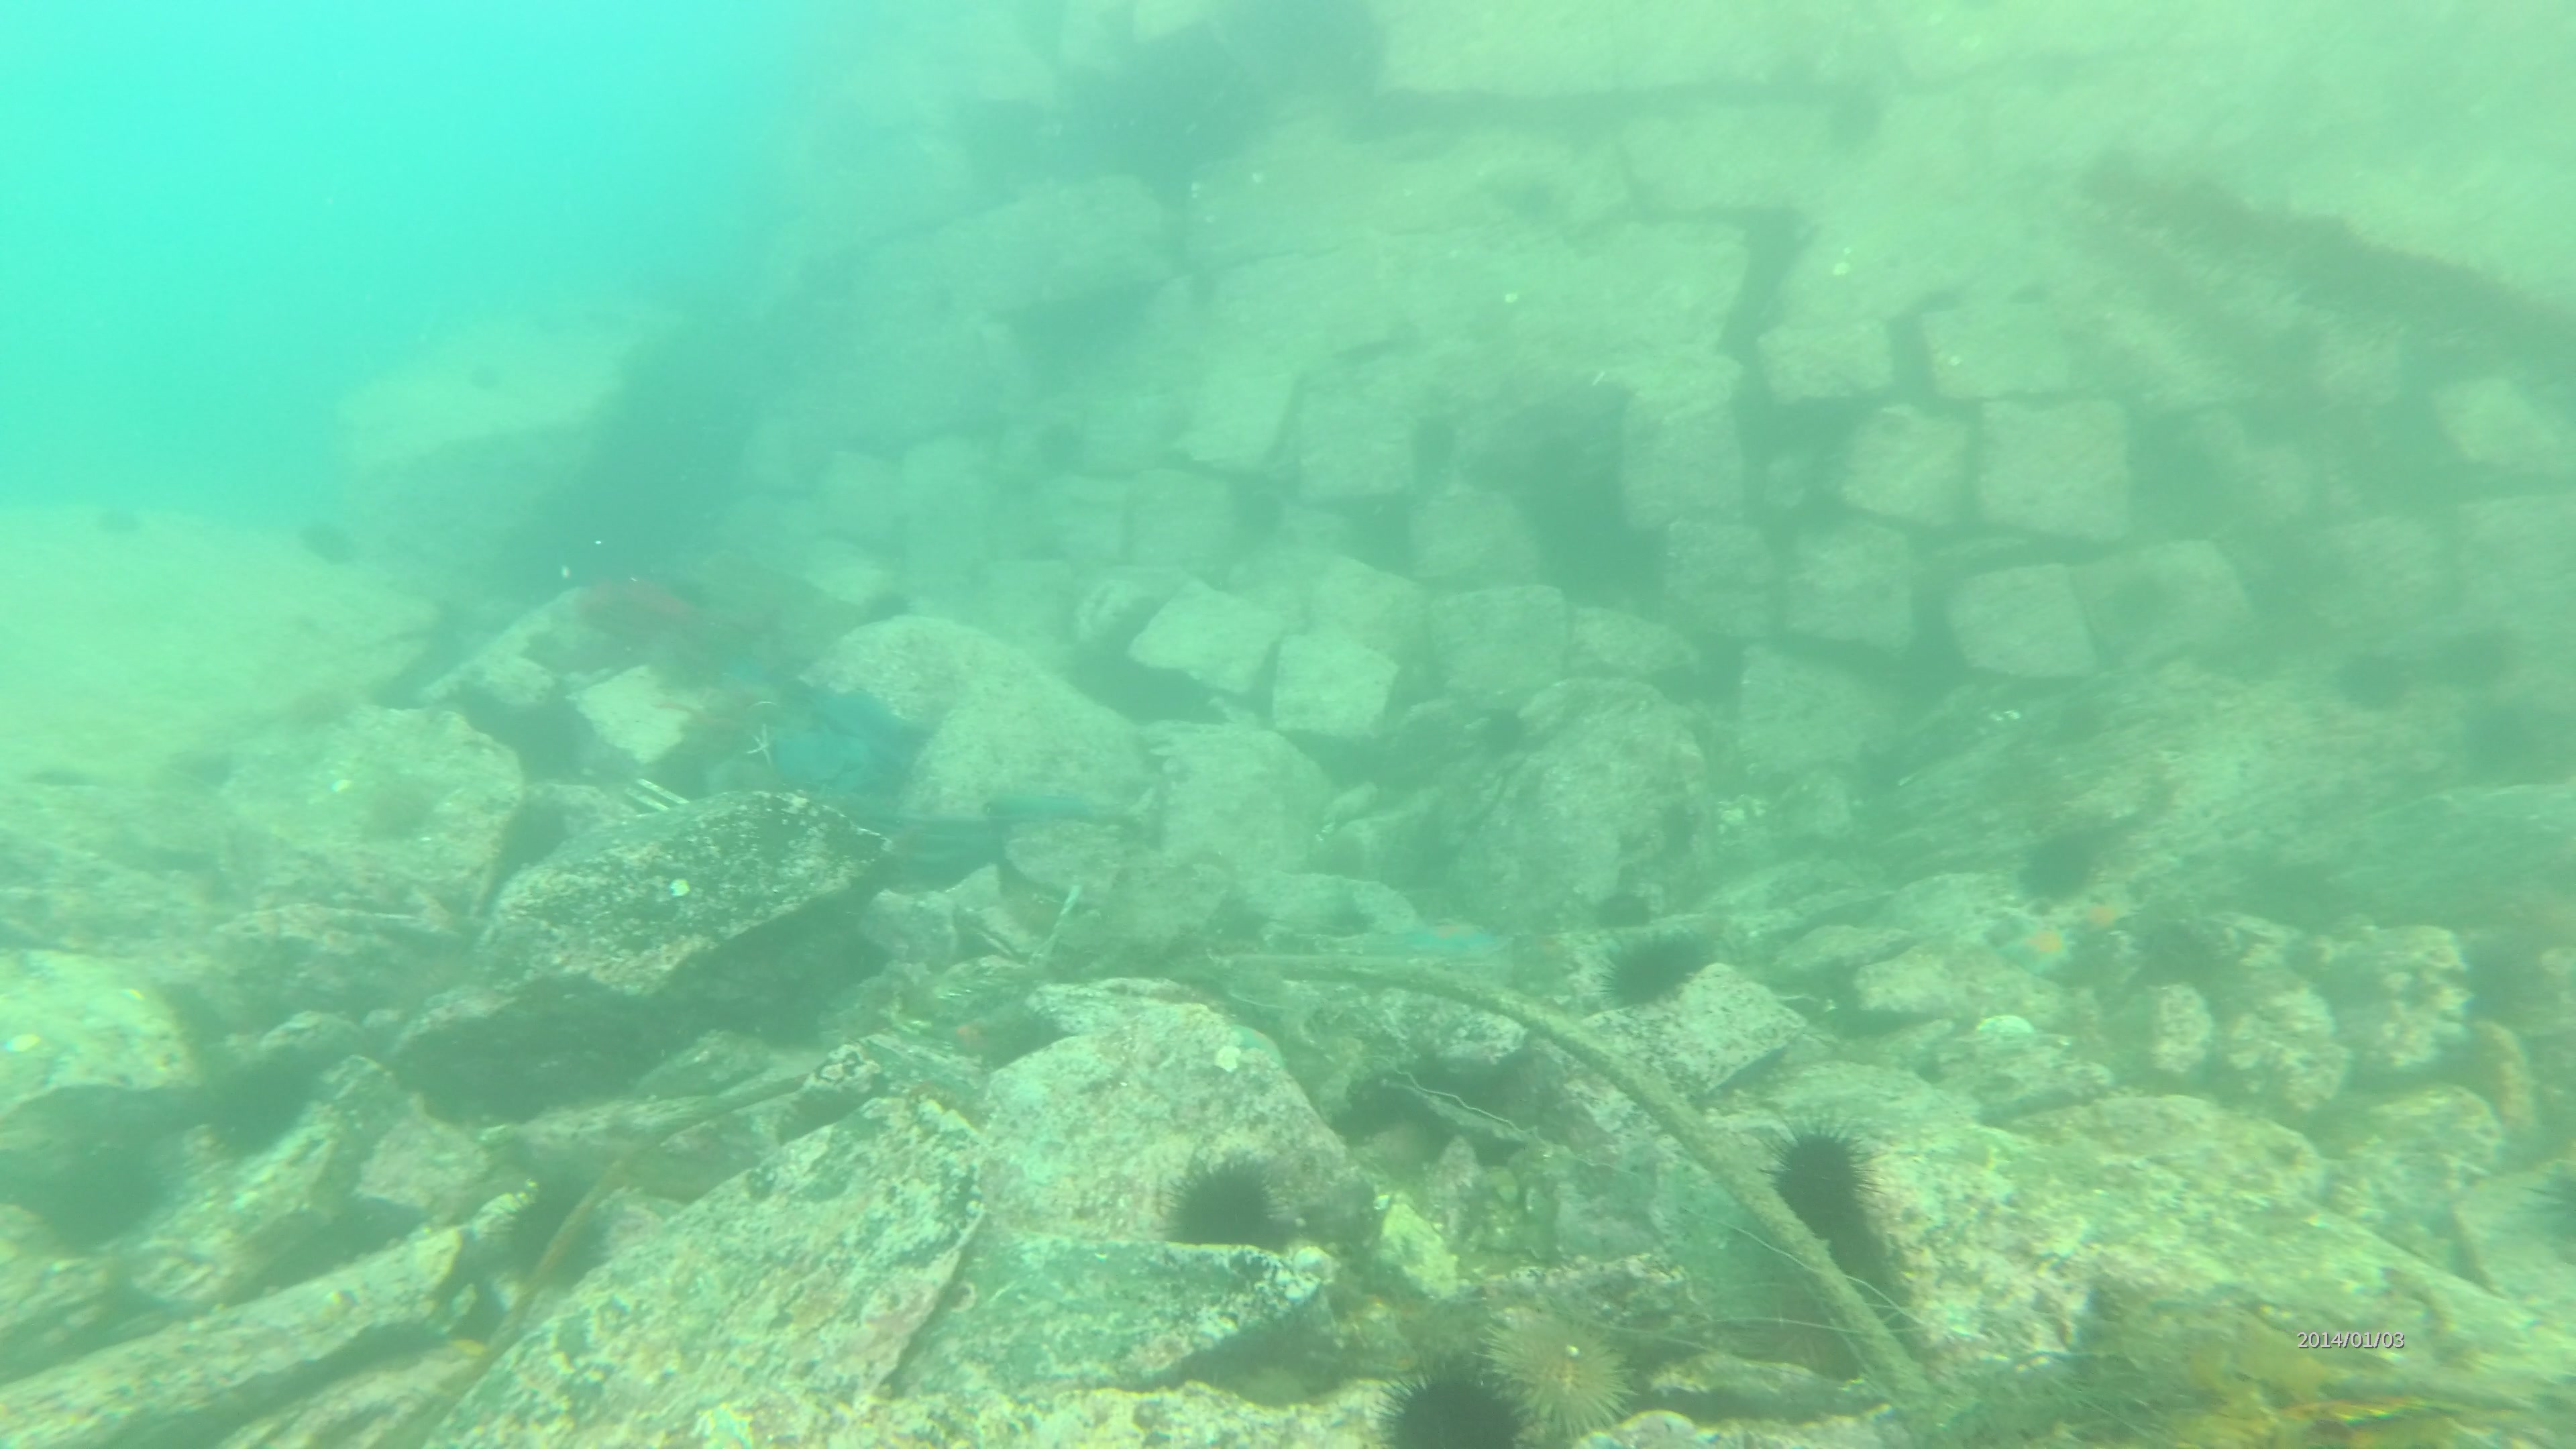echinus: (1481, 1302, 1649, 1442), (1767, 1113, 1875, 1233), (1376, 1355, 1509, 1449), (497, 1180, 610, 1281), (1606, 929, 1732, 1012), (2473, 692, 2574, 773), (1177, 1162, 1270, 1247), (2339, 640, 2420, 711)
starfish: (1394, 909, 1513, 961), (2006, 904, 2091, 973)
